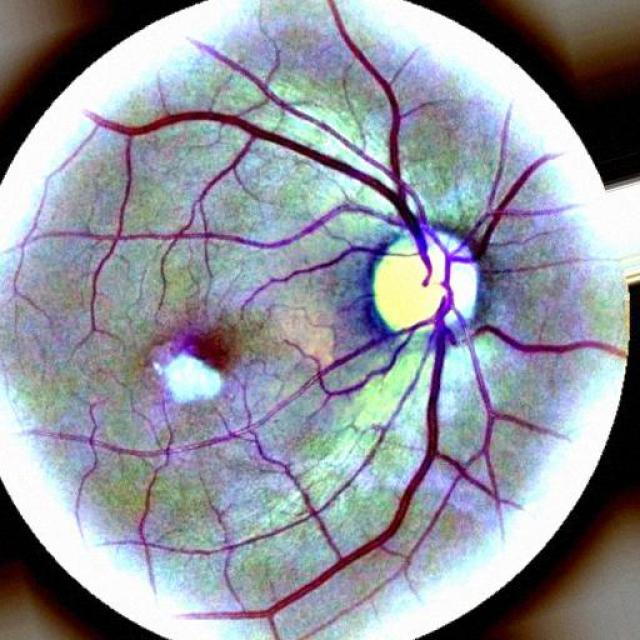Macula: (168, 320, 244, 373)
Nerves: (289, 277, 450, 599), (140, 115, 425, 260), (149, 320, 431, 466)
Optic Disk: (369, 226, 485, 342)
